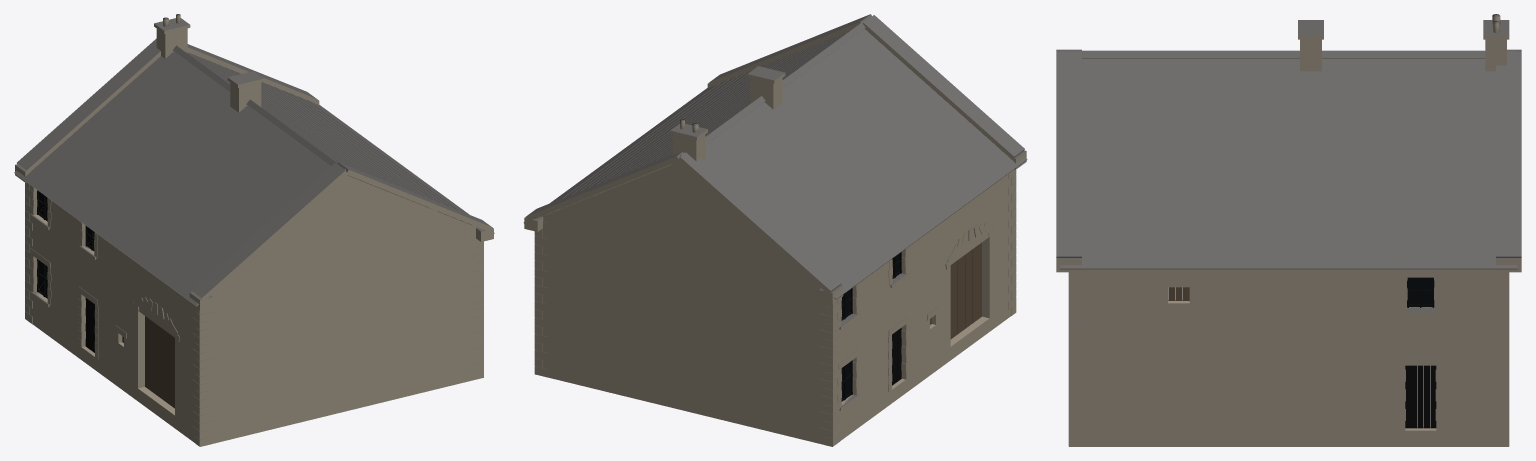
Rendered from context.dales.house_19.glb.
The picture shows the model from 3 angles, left to right: view 1: azimuth 30°, elevation 25°; view 2: azimuth 150°, elevation 25°; view 3: azimuth 270°, elevation 25°; orthographic projection. The views are drawn at different scales.
Parts seen in each view (by area): view 1: main__stone_a98, main__slate_666, main__paint_654, main__rubber; view 2: main__stone_a98, main__slate_666, main__paint_654, main__rubber, main__glass_dark; view 3: main__slate_666, main__stone_a98, main__rubber, main__glass_dark.
Part boxes in pixels (x1,y1,x2,y2): main__stone_a98: (15, 15, 494, 446); main__slate_666: (14, 14, 493, 439); main__paint_654: (122, 318, 174, 408); main__rubber: (37, 190, 94, 352); main__stone_a98: (523, 22, 1026, 446); main__slate_666: (524, 14, 1027, 438); main__paint_654: (930, 242, 981, 339); main__rubber: (841, 252, 901, 401); main__glass_dark: (841, 253, 899, 398); main__slate_666: (1056, 14, 1521, 437); main__stone_a98: (1056, 16, 1521, 446); main__rubber: (1405, 277, 1436, 428); main__glass_dark: (1407, 277, 1434, 304).
Bounding box in the file's own units: 12.05 × 10.47 × 12.94.
